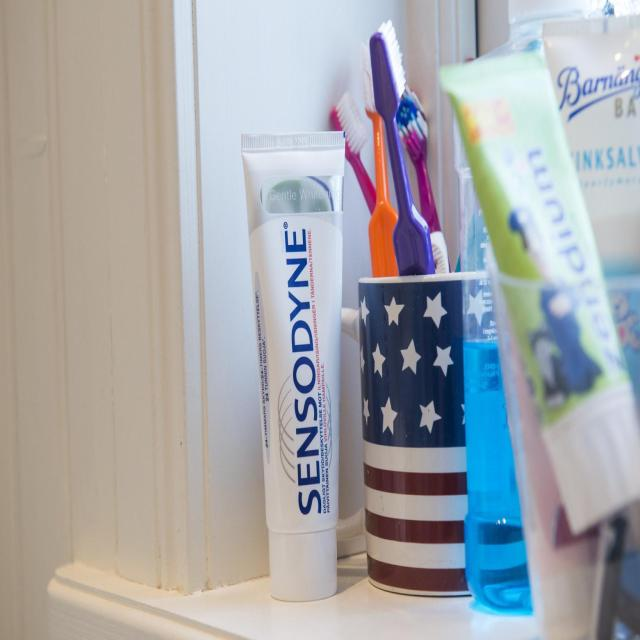Toothpaste: (436, 16, 640, 538), (235, 126, 351, 594)
